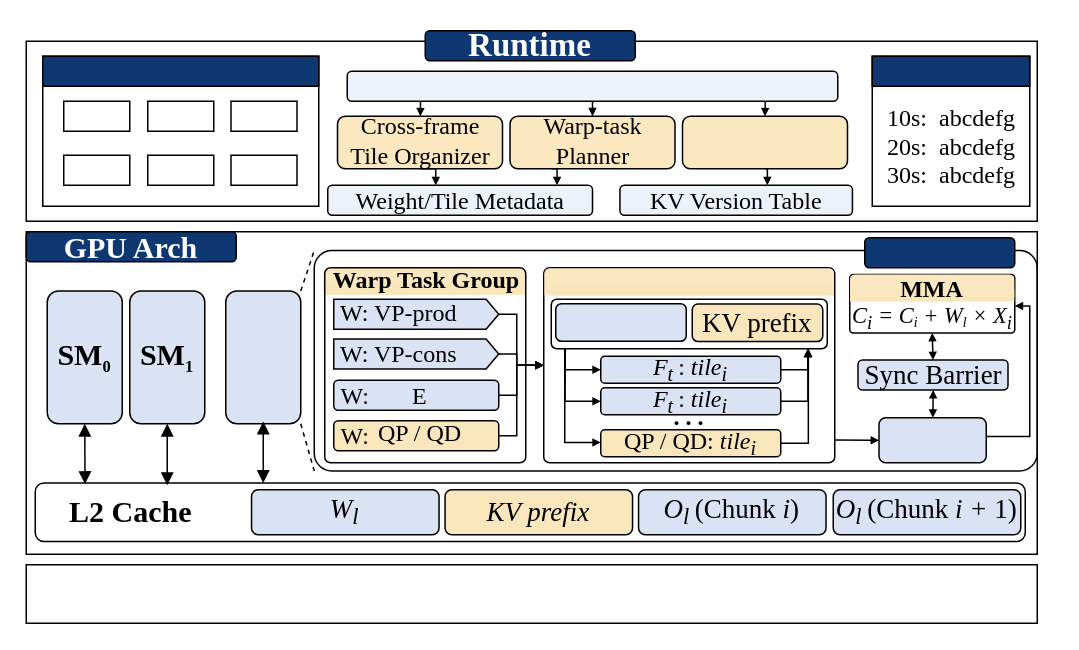
Some shapes in this 1079 by 650 pixel diagram are drawn without their labels. Here are the shapes that lost their labels. From the top down, the centre of each, then its label:
[180,70]: Streaming Video
[592,85]: Global Task Scheduler
[950,70]: User Query
[764,142]: Query & KV Coordinator
[939,252]: SM
[688,281]: Shared Tile Group
[620,321]: Weight Tile
[262,357]: SM N-1
[932,439]: SMEM
[531,593]: DRAM
